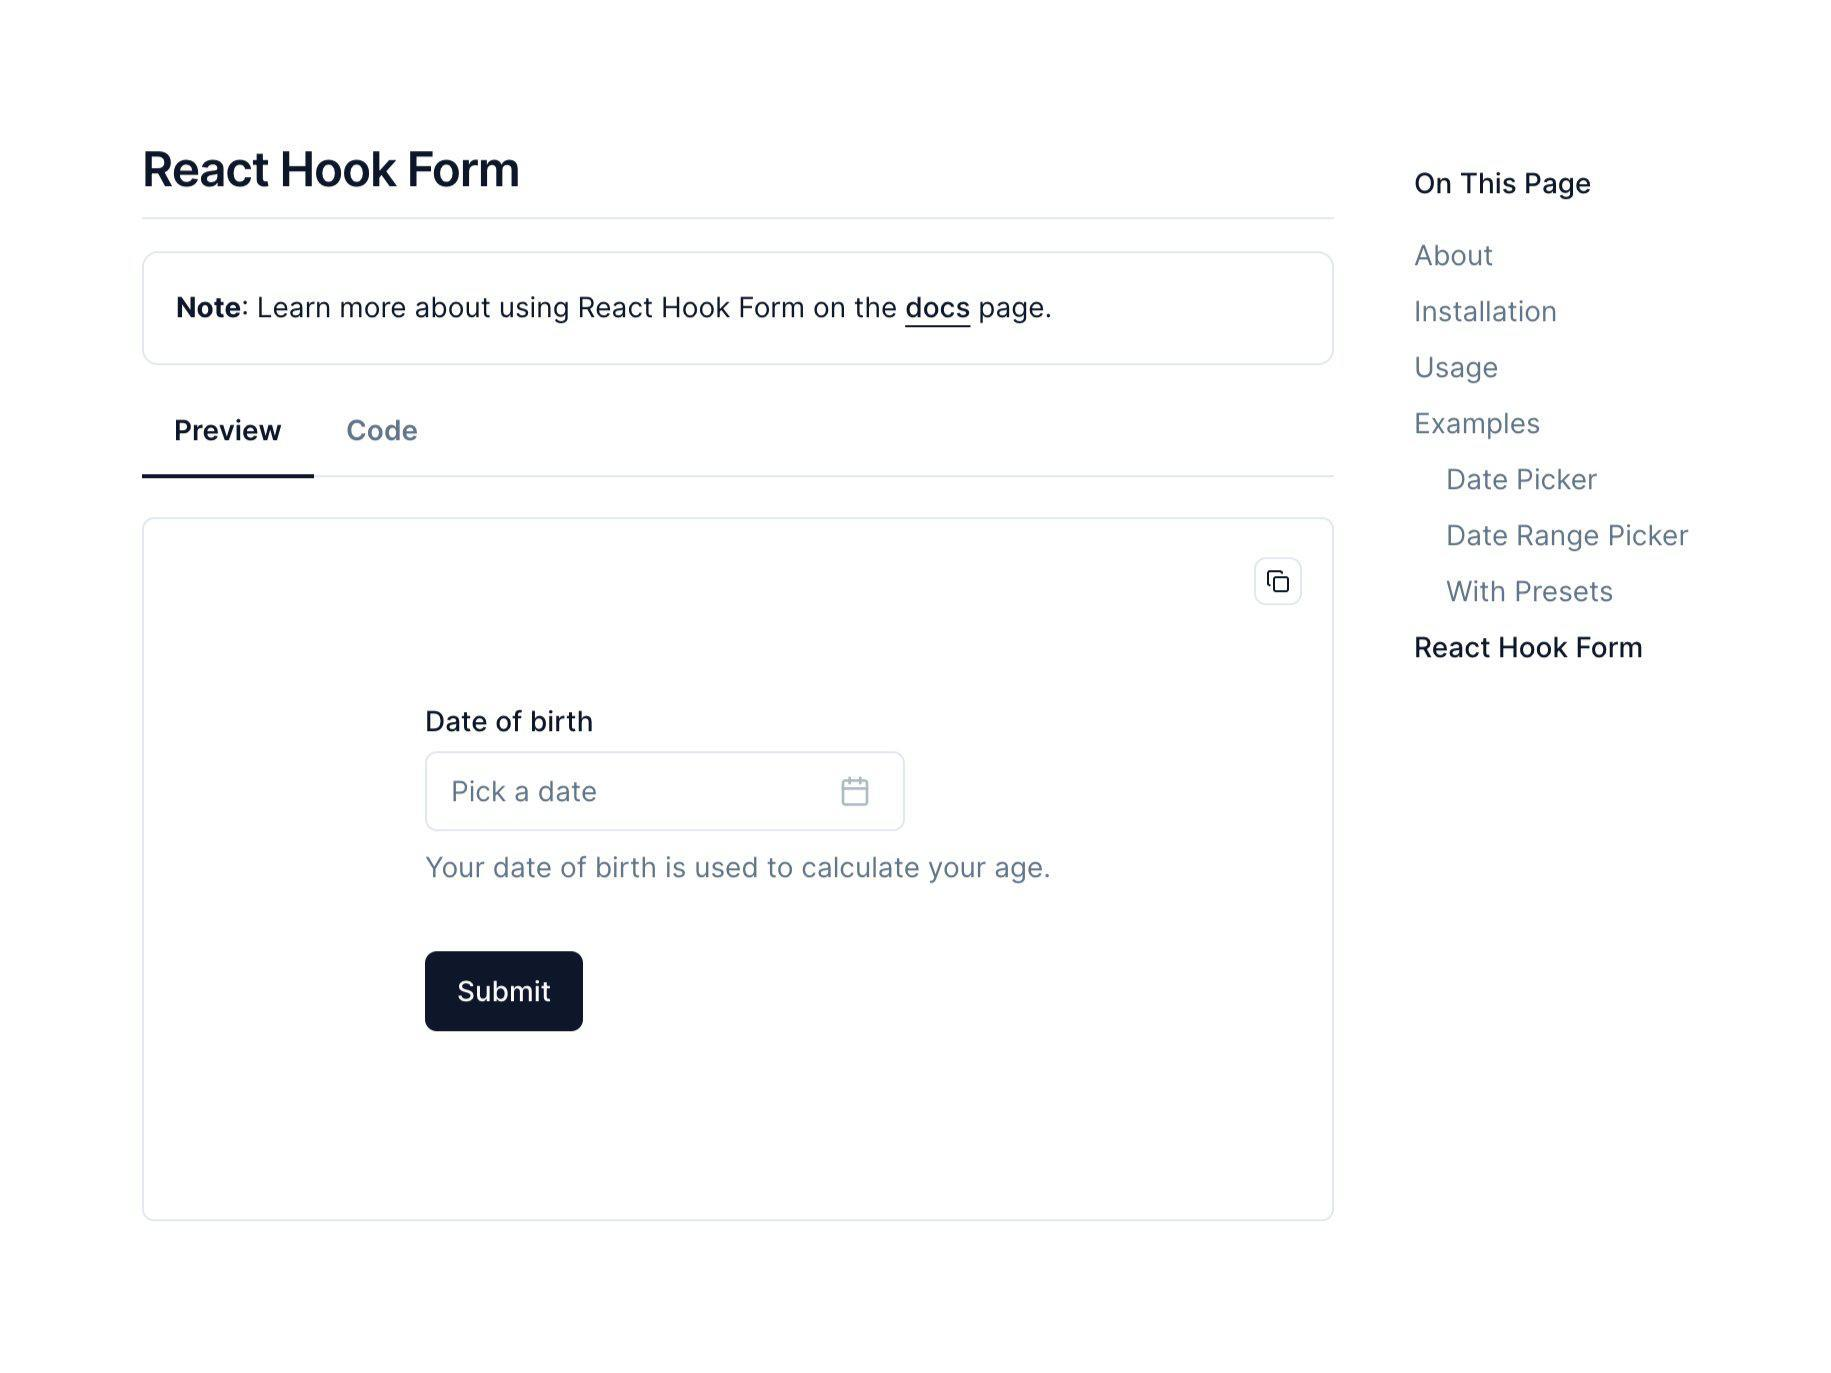button: (138, 389, 317, 480), (422, 948, 587, 1038)
dropdown: (431, 754, 904, 834)
icon: (1249, 551, 1311, 610)
label: (131, 134, 542, 203), (1436, 505, 1697, 562), (1409, 622, 1659, 678), (1437, 561, 1623, 622), (417, 691, 617, 744), (1406, 391, 1563, 453), (1411, 154, 1605, 203), (1432, 459, 1608, 503), (1409, 294, 1563, 337), (1406, 232, 1512, 283), (1409, 348, 1517, 392), (342, 412, 427, 450)
